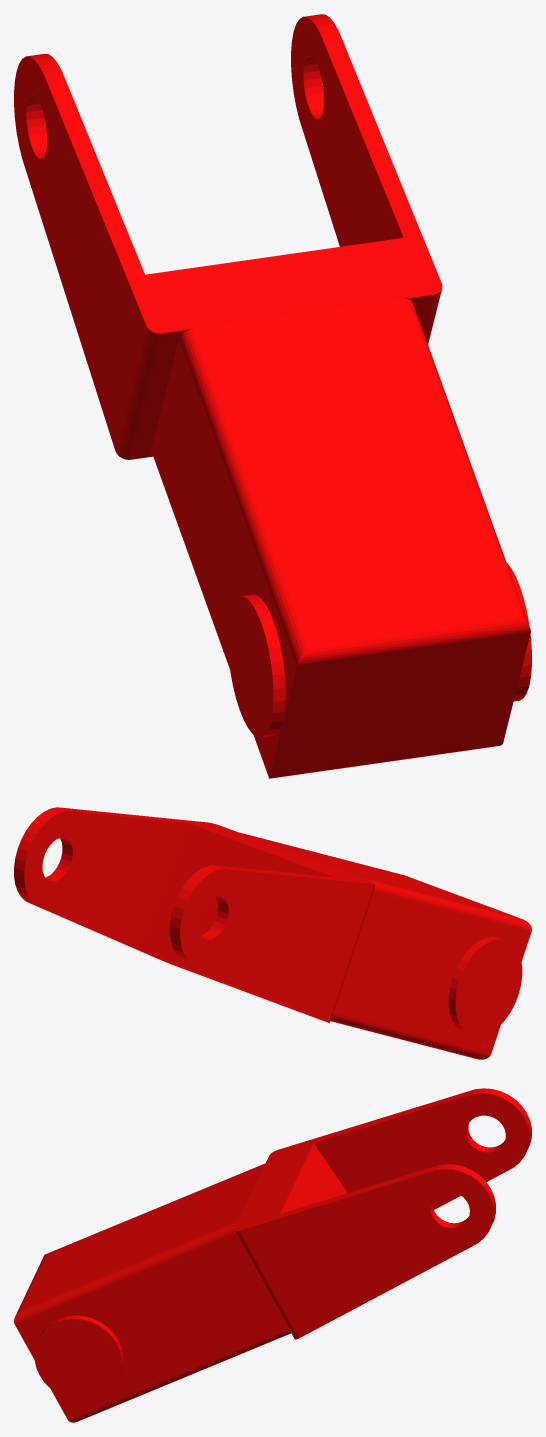
Rendered from bicep001_b.obj.
3 views of the same model, one above another, from view 1: azimuth 30°, elevation 25°; view 2: azimuth 150°, elevation 25°; view 3: azimuth 270°, elevation 25° (orthographic). The views are drawn at different scales.
Parts seen in each view (by area): view 1: bicep001_b.001; view 2: bicep001_b.001; view 3: bicep001_b.001.
Part boxes in pixels (x1,y1,x2,y2): bicep001_b.001: (14,14,531,778); bicep001_b.001: (14,807,531,1059); bicep001_b.001: (14,1088,531,1422).
Size of the model in its own units: 66.87 by 80.16 by 127.
